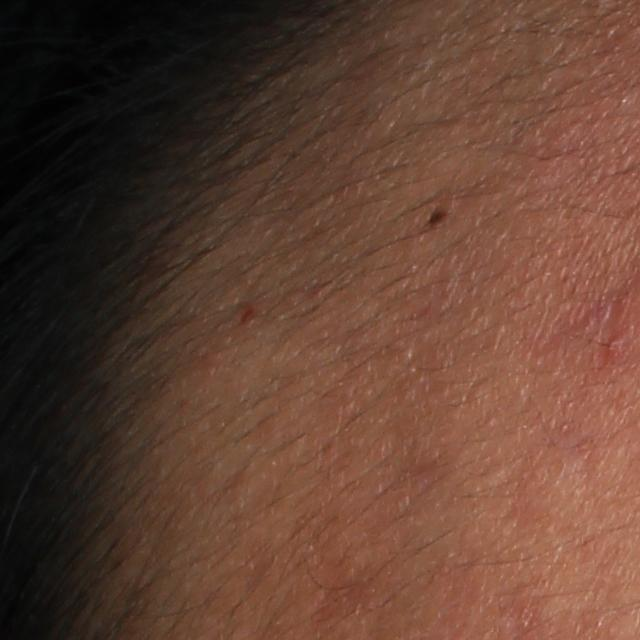nevus: (428, 203, 452, 227)
